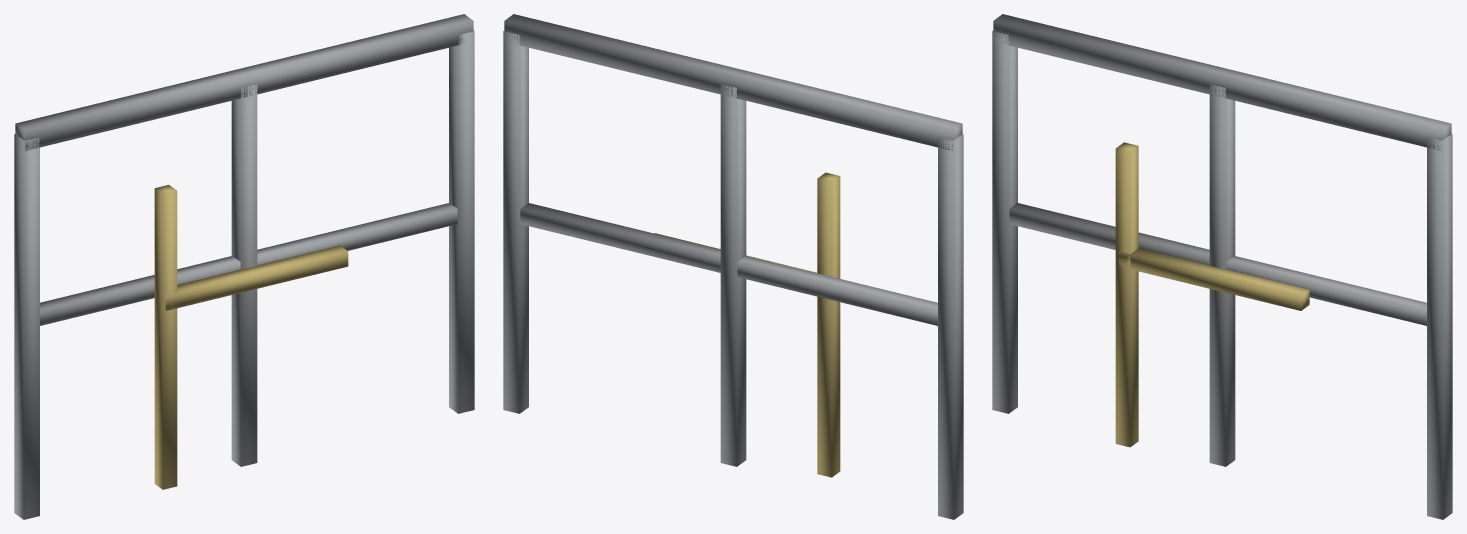
Rendered from residential_gate_l120_h100.glb.
The picture shows the model from 3 angles, left to right: view 1: azimuth 30°, elevation 25°; view 2: azimuth 150°, elevation 25°; view 3: azimuth 330°, elevation 25°; orthographic projection.
Visible parts, largest first — view 1: world; view 2: world; view 3: world.
Boxes of the visible parts, x1,y1,x2,y2 form: world: (14, 14, 474, 519); world: (503, 14, 963, 519); world: (992, 14, 1452, 519).
Size of the model in its own units: 1.25 by 1.03 by 0.0825.
